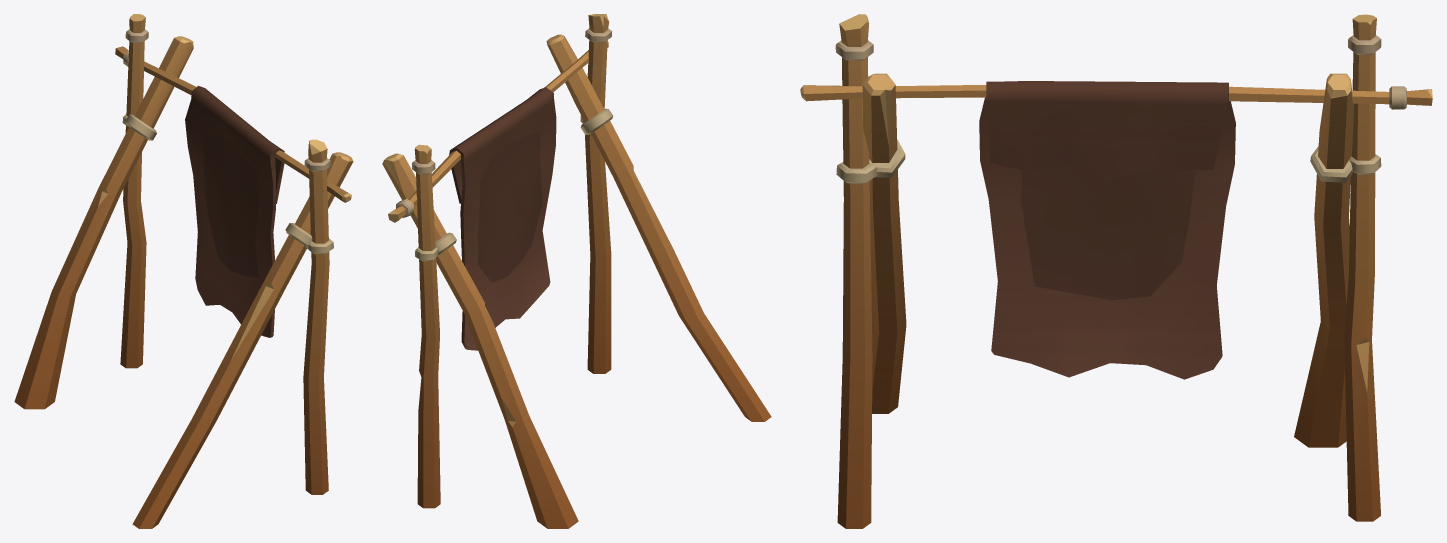
Rendered from SkinHang_B.glb.
3 views of the same model, side by side, from view 1: azimuth 30°, elevation 25°; view 2: azimuth 150°, elevation 25°; view 3: azimuth 270°, elevation 25° (orthographic). The views are drawn at different scales.
Parts seen in each view (by area): view 1: SkinHang_B; view 2: SkinHang_B; view 3: SkinHang_B.
Part boxes in pixels (box(x1,y1,x2,y2)): SkinHang_B: box(14, 14, 353, 528); SkinHang_B: box(382, 14, 771, 528); SkinHang_B: box(800, 14, 1432, 528).
Bounding box in the file's own units: 1.21 × 1.86 × 2.11.
1 material, 1 textured.
